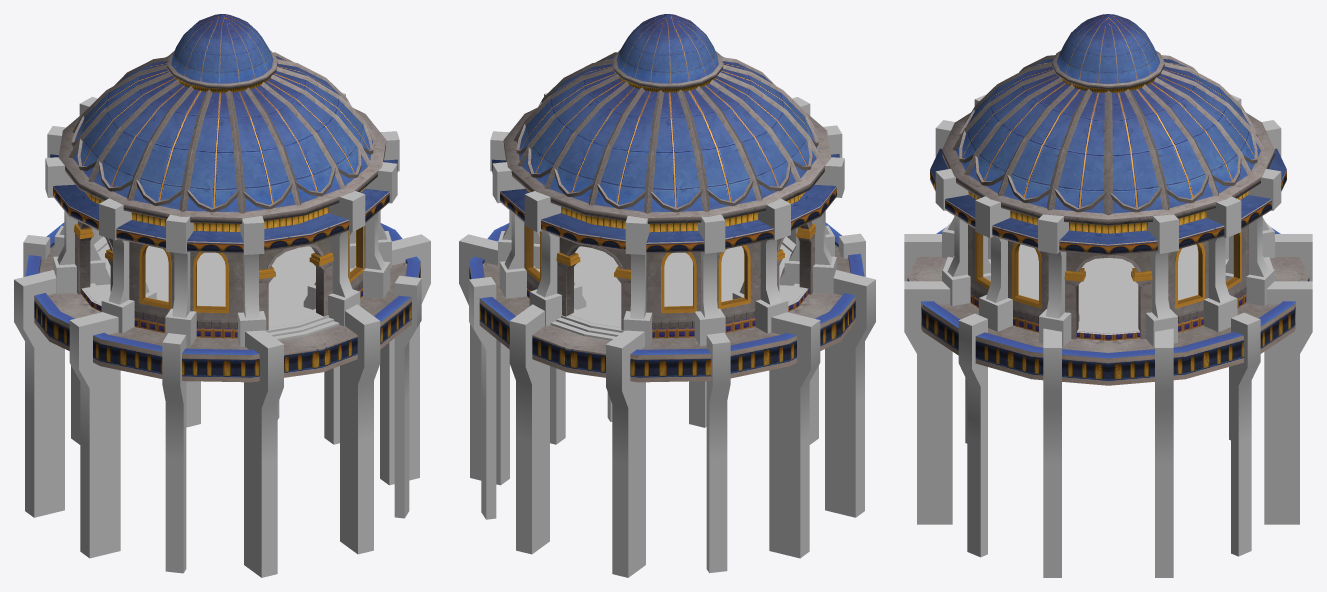
File: NewBattle03_all01.FBX
The picture shows the model from 3 angles, left to right: view 1: azimuth 30°, elevation 25°; view 2: azimuth 150°, elevation 25°; view 3: azimuth 270°, elevation 25°; orthographic projection.
Visible parts, largest first — view 1: NewBattle03_wall01_01, NewBattle03_ground01_03, NewBattle03_wall01_02, NewBattle03_ground01_02, NewBattle03_ground01_01, NewBattle03_wall01_03, NewBattle03_IntWall01_02, NewBattle03_IntWall01_01; view 2: NewBattle03_wall01_01, NewBattle03_ground01_03, NewBattle03_wall01_02, NewBattle03_ground01_02, NewBattle03_ground01_01, NewBattle03_wall01_03, NewBattle03_IntWall01_02, NewBattle03_IntWall01_01; view 3: NewBattle03_wall01_01, NewBattle03_ground01_03, NewBattle03_wall01_02, NewBattle03_ground01_02, NewBattle03_ground01_01, NewBattle03_IntWall01_02, NewBattle03_wall01_03, NewBattle03_IntWall01_01.
Boxes of the visible parts, x1,y1,x2,y2 form: NewBattle03_wall01_01: (50,14,397,338); NewBattle03_ground01_03: (14,234,430,577); NewBattle03_wall01_02: (45,92,399,346); NewBattle03_ground01_02: (25,222,420,382); NewBattle03_ground01_01: (84,236,355,340); NewBattle03_wall01_03: (74,222,333,330); NewBattle03_IntWall01_02: (139,226,364,313); NewBattle03_IntWall01_01: (81,227,355,309); NewBattle03_wall01_01: (492,14,839,338); NewBattle03_ground01_03: (459,233,875,577); NewBattle03_wall01_02: (490,93,844,346); NewBattle03_ground01_02: (469,222,864,382); NewBattle03_ground01_01: (534,236,805,340); NewBattle03_wall01_03: (556,223,815,330); NewBattle03_IntWall01_02: (525,226,750,313); NewBattle03_IntWall01_01: (534,227,808,309); NewBattle03_wall01_01: (930,14,1286,340); NewBattle03_ground01_03: (904,234,1312,577); NewBattle03_wall01_02: (935,94,1281,346); NewBattle03_ground01_02: (907,227,1309,385); NewBattle03_ground01_01: (941,244,1275,333); NewBattle03_IntWall01_02: (975,232,1241,308); NewBattle03_wall01_03: (1064,255,1152,339); NewBattle03_IntWall01_01: (983,235,1233,334).
Bounding box in the file's own units: 27.65 × 36.05 × 27.65.
